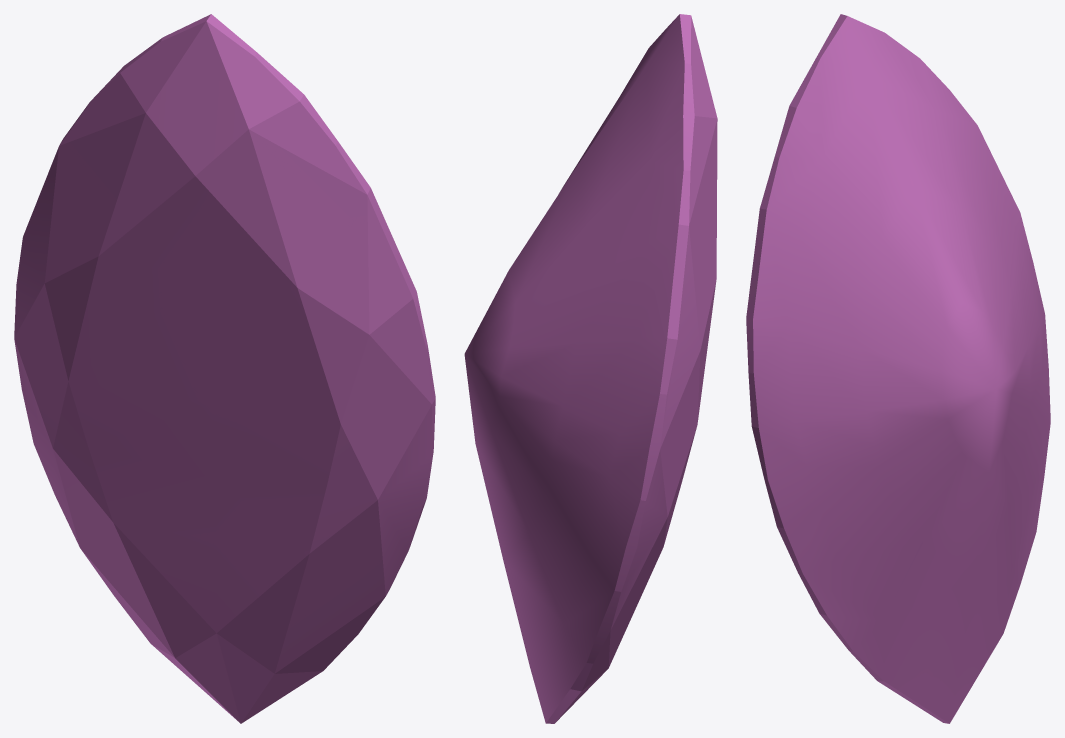
The model's file is TL3_8shapes_Marquise_Classic_Stone.001 2.glb.
3 views of the same model, side by side, from view 1: azimuth 30°, elevation 25°; view 2: azimuth 150°, elevation 25°; view 3: azimuth 270°, elevation 25° (orthographic). The views are drawn at different scales.
Visible parts, largest first — view 1: TL3_8shapes_Marquise_Classic_Stone.001; view 2: TL3_8shapes_Marquise_Classic_Stone.001; view 3: TL3_8shapes_Marquise_Classic_Stone.001.
Part boxes in pixels (left/top/right/bottom): TL3_8shapes_Marquise_Classic_Stone.001: left=14, top=14, right=435, bottom=723; TL3_8shapes_Marquise_Classic_Stone.001: left=464, top=14, right=717, bottom=723; TL3_8shapes_Marquise_Classic_Stone.001: left=746, top=14, right=1050, bottom=723.
Size of the model in its own units: 0.2601 by 0.6994 by 0.2877.
